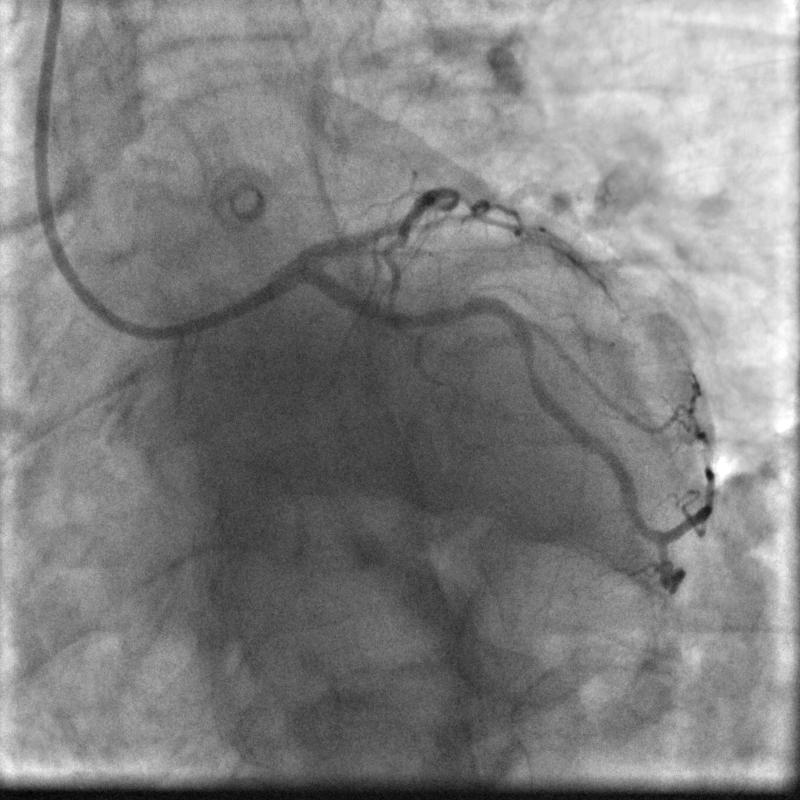Stenosis: (524, 352, 538, 376)
